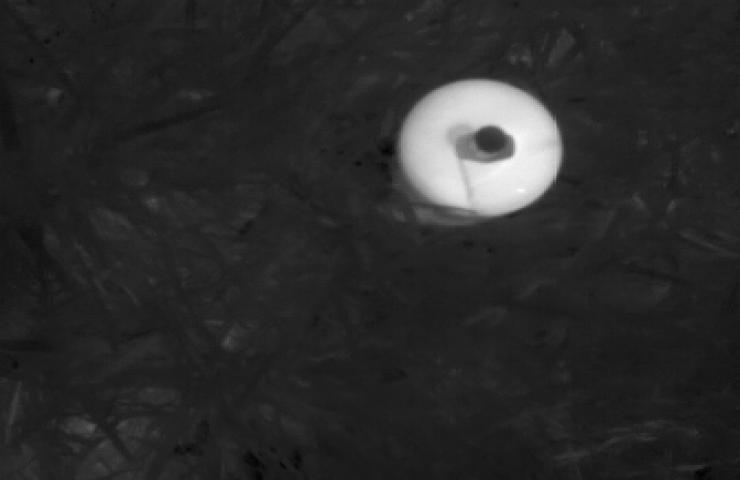landmines: (381, 73, 568, 233)
